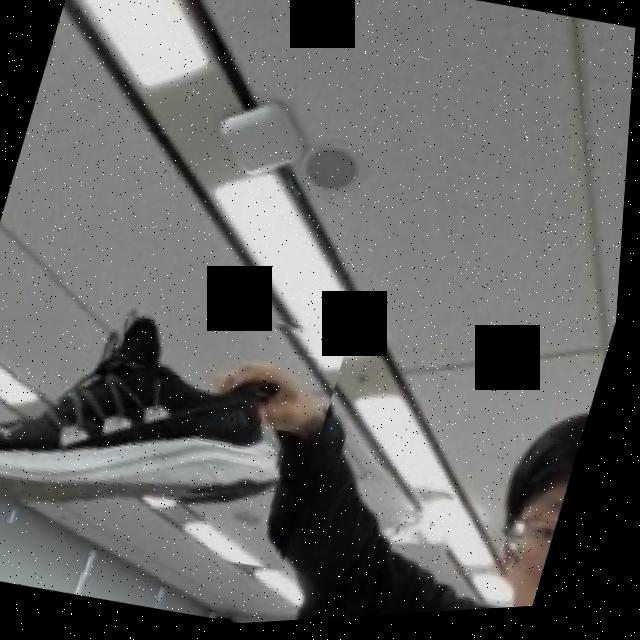shoe: (0, 246, 360, 588)
